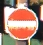No entry: (5, 6, 38, 40)
